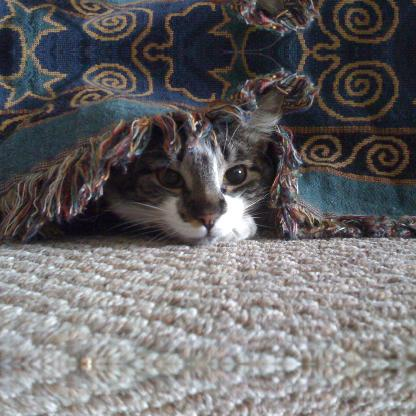Cat: (97, 86, 288, 248)
